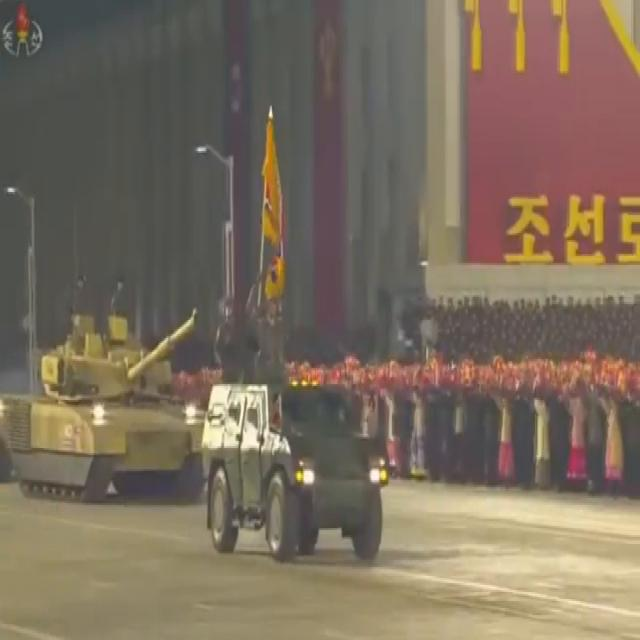north tank: (0, 277, 243, 519)
